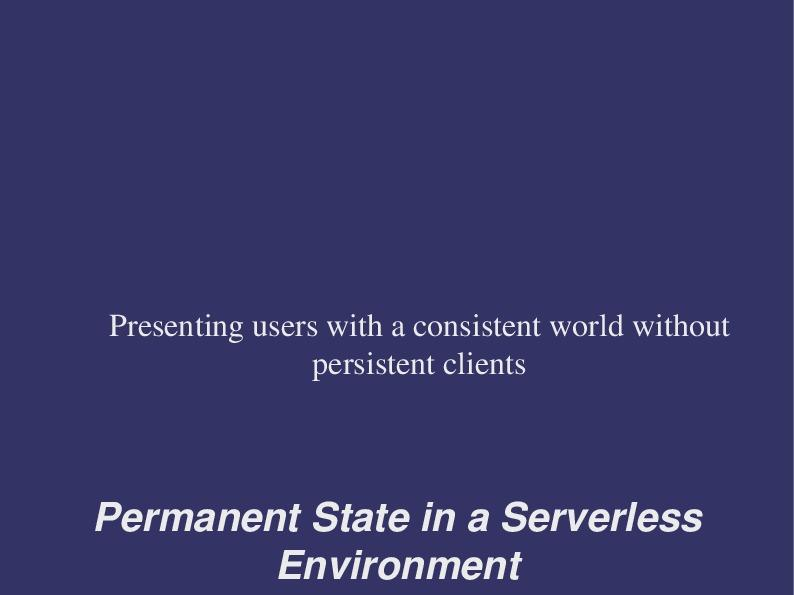subtitle: (75, 492, 735, 590)
title: (82, 276, 744, 404)
